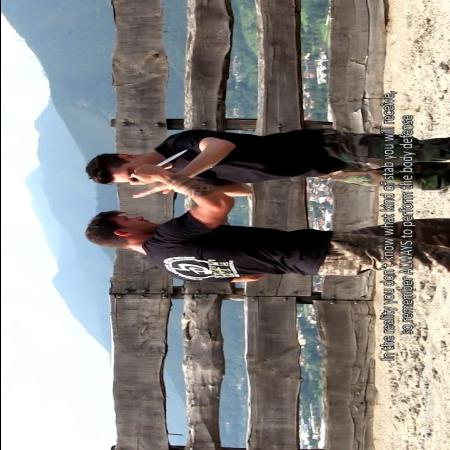long weapon: (124, 148, 189, 186)
